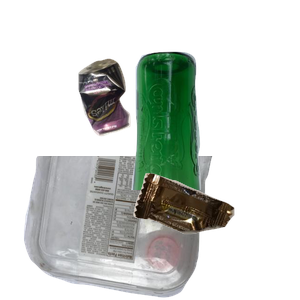glass: (129, 49, 300, 229)
metal: (75, 56, 198, 185)
plastic: (21, 156, 226, 300)
trash: (131, 171, 300, 300)
